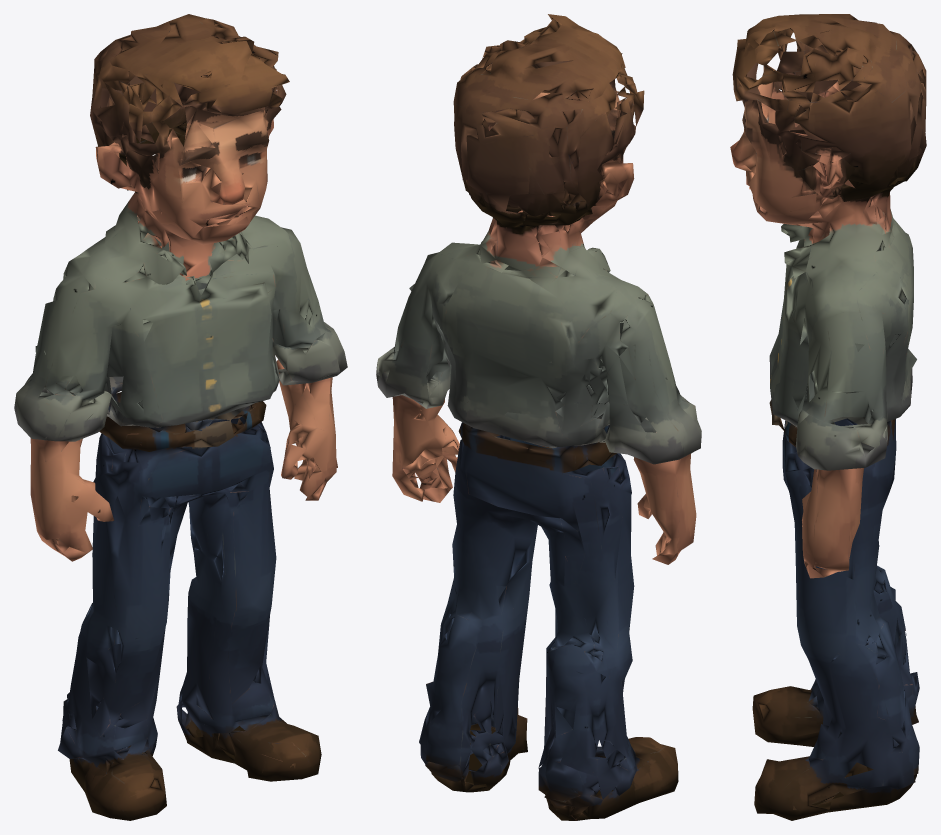
The model's file is special_PixelArtSprite.glb.
3 views of the same model, side by side, from view 1: azimuth 30°, elevation 25°; view 2: azimuth 150°, elevation 25°; view 3: azimuth 270°, elevation 25° (orthographic).
Visible parts, largest first — view 1: world; view 2: world; view 3: world.
Boxes of the visible parts, box(x1,y1,x2,y2) form: world: box(14, 14, 347, 820); world: box(376, 14, 701, 820); world: box(730, 14, 926, 820).
Bounding box in the file's own units: 0.4346 × 0.9962 × 0.2356.
1 material, 1 textured.
